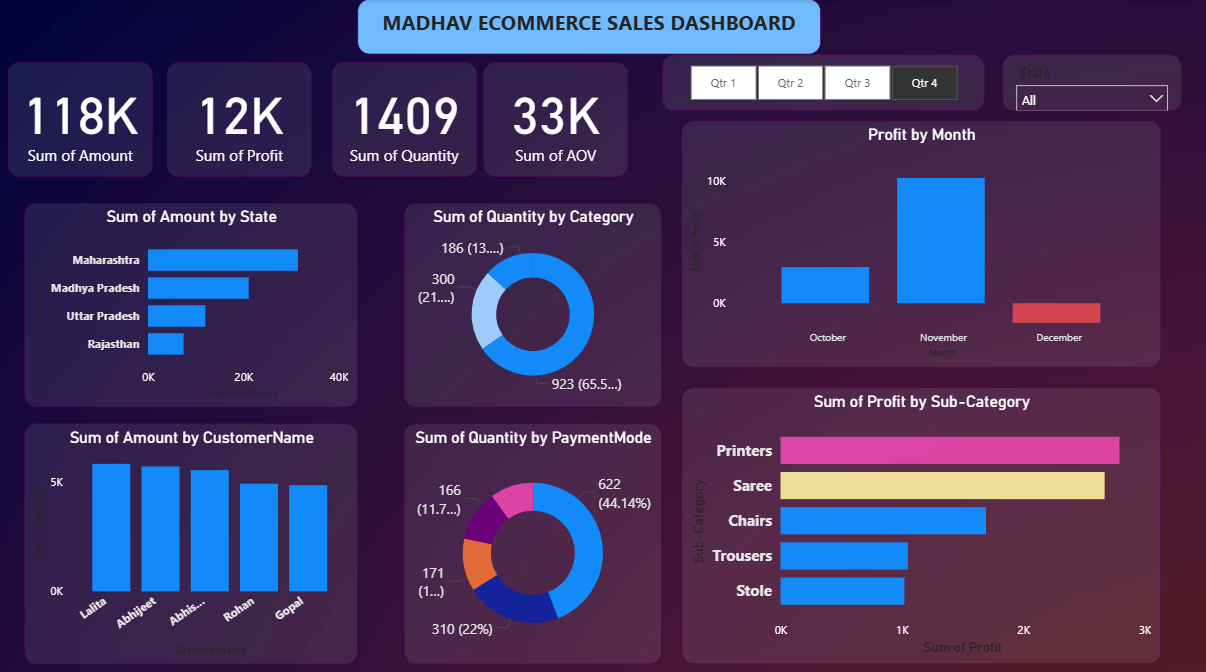

This screenshot's page, from the dashboard's own definition file:
{"tool":"powerbi","page":{"name":"Page 1","canvas":[1280,720],"ordinal":0},"visuals":[{"type":"textbox","box":[380.2,0,491.5,58.9],"z":0},{"type":"columnChart","title":"Profit by Month","fields":{"Y":["Details.Profit"],"Category":["Orders.Order Date.Variation.Date Hierarchy.Month"]},"box":[723.3,128.3,508.3,261.7],"z":1000},{"type":"barChart","fields":{"Category":["Details.Sub-Category"],"Y":["Details.Profit"]},"box":[723.3,411.7,508.3,293.3],"z":2000},{"type":"donutChart","fields":{"Y":["Details.Quantity"],"Category":["Details.Category"]},"box":[430,216.7,273.3,216.7],"z":3000},{"type":"donutChart","fields":{"Y":["Details.Quantity"],"Category":["Details.PaymentMode"]},"box":[430,450,273.3,255],"z":4000},{"type":"card","fields":{"Values":["Details.Amount"]},"box":[10,66.7,153.3,121.7],"z":5000},{"type":"card","fields":{"Values":["Details.Profit"]},"box":[178.3,66.7,153.3,121.7],"z":6000},{"type":"card","fields":{"Values":["Details.Quantity"]},"box":[353.3,66.7,153.3,121.7],"z":7000},{"type":"card","fields":{"Values":["Details.AOV"]},"box":[513.3,66.7,153.3,121.7],"z":8000},{"type":"barChart","fields":{"Category":["Orders.State","Details.Sub-Category"],"Y":["Details.Amount"]},"box":[26.7,216.7,353.3,216.7],"z":9000},{"type":"columnChart","fields":{"Category":["Orders.CustomerName"],"Y":["Details.Amount"]},"box":[26.7,450,353.3,255],"z":10000},{"type":"slicer","fields":{"Values":["Orders.Order Date.Variation.Date Hierarchy.Quarter"]},"box":[703.3,58.3,341.7,60],"z":11000},{"type":"slicer","fields":{"Values":["Orders.State"]},"box":[1063.3,58.3,190,60],"z":12000}]}

Visuals, with their boxes in screenshot pixels (x1, y1, x2, y2), scaled from the page's 1280x720 canvas onto the 1206x672 screenshot:
textbox: 358:0:821:55
"Profit by Month" columnChart: 681:120:1160:364
barChart - Details.Sub-Category x Details.Profit: 681:384:1160:658
donutChart - Details.Quantity x Details.Category: 405:202:663:405
donutChart - Details.Quantity x Details.PaymentMode: 405:420:663:658
card - Details.Amount: 9:62:154:176
card - Details.Profit: 168:62:312:176
card - Details.Quantity: 333:62:477:176
card - Details.AOV: 484:62:628:176
barChart - Orders.State x Details.Sub-Category: 25:202:358:405
columnChart - Orders.CustomerName x Details.Amount: 25:420:358:658
slicer - Orders.Order Date.Variation.Date Hierarchy.Quarter: 663:54:985:110
slicer - Orders.State: 1002:54:1181:110
